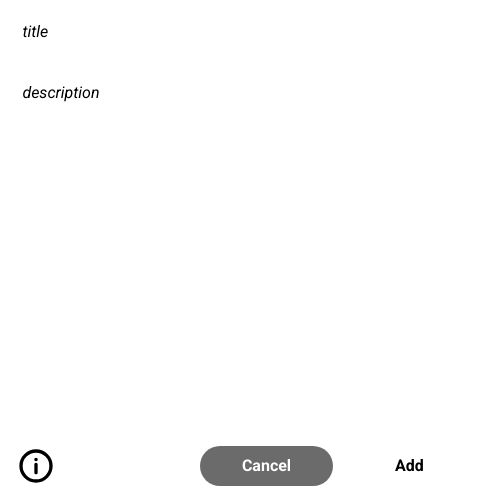
Test case: CreateTask › displays character count for title and description boxes
Expected: the element with test id "description-count" is empty, [16,415,476,446]
Type "abc" into the field labelled "title".
click(246, 32); type("abc")  # box [16,16,476,48]
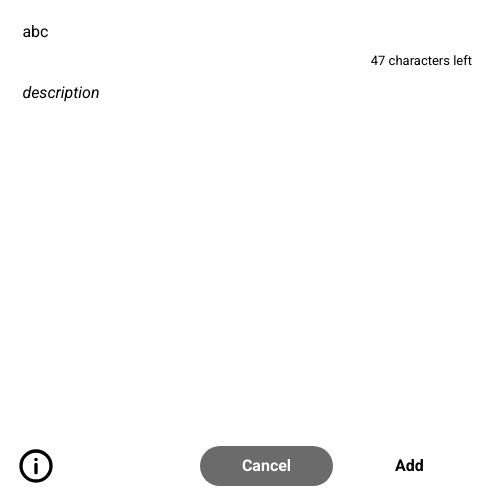
Type "abc" into the text box labelled "description".
click(246, 247); type("abc")  # box [16,79,476,415]
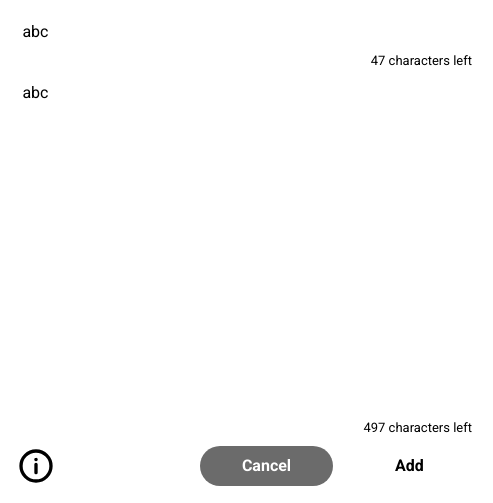
Result: the text with test id "title-count" reads "47 characters left" at [371,53,472,68]
Result: the text with test id "description-count" reads "497 characters left" at [364,420,472,435]
